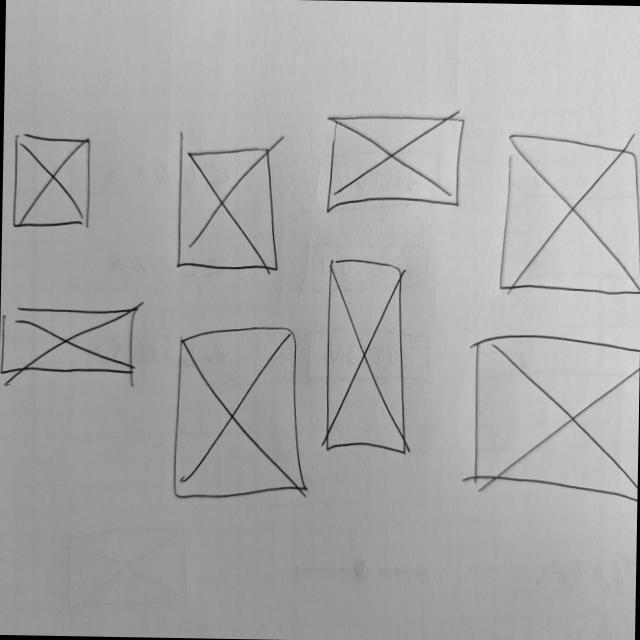image: (468, 330, 640, 509), (170, 324, 314, 506), (496, 130, 640, 298), (323, 255, 414, 459), (325, 111, 469, 217), (175, 143, 284, 278), (1, 303, 144, 388), (11, 130, 93, 234)
